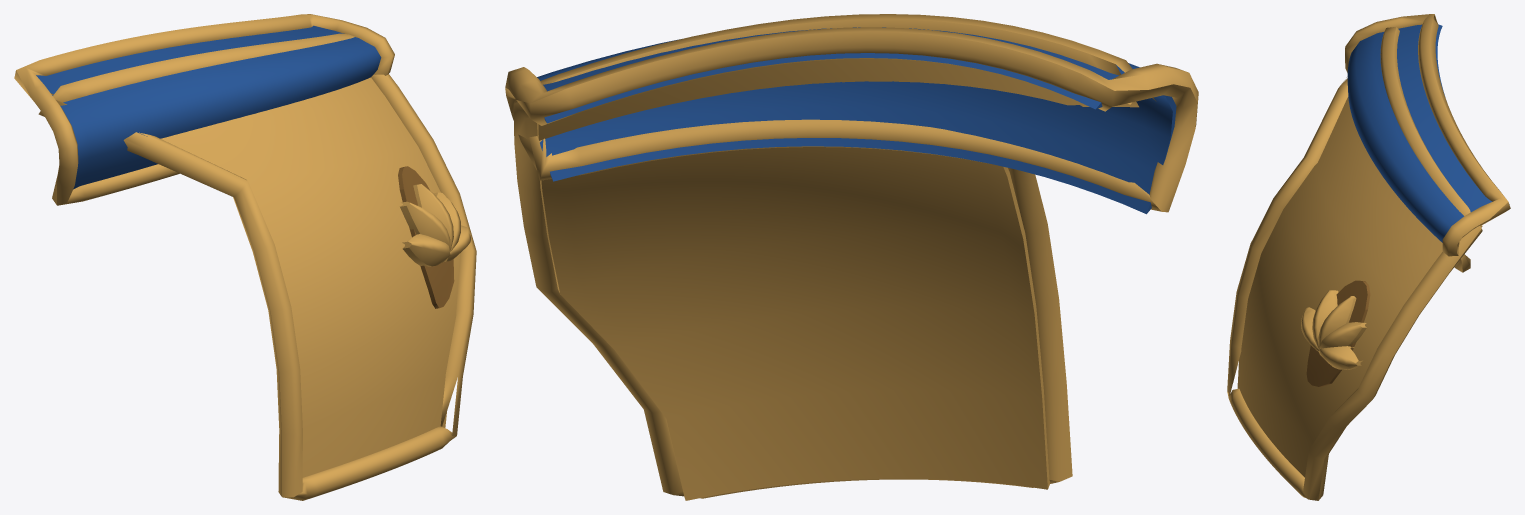
File: shoulder-armour-mid.glb
3 views of the same model, side by side, from view 1: azimuth 30°, elevation 25°; view 2: azimuth 150°, elevation 25°; view 3: azimuth 270°, elevation 25° (orthographic). The views are drawn at different scales.
Parts seen in each view (by area): view 1: OriginalLeftShoulderArmour; view 2: OriginalLeftShoulderArmour; view 3: OriginalLeftShoulderArmour.
Boxes of the visible parts, <box> form: OriginalLeftShoulderArmour: <box>14,14,476,500</box>; OriginalLeftShoulderArmour: <box>505,14,1198,500</box>; OriginalLeftShoulderArmour: <box>1227,14,1510,500</box>.
Size of the model in its own units: 0.1064 by 0.0992 by 0.0733.
